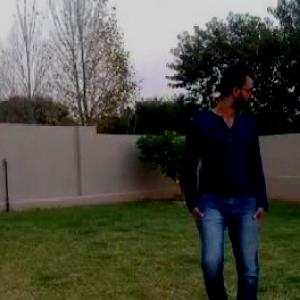follow: (173, 33, 282, 299)
